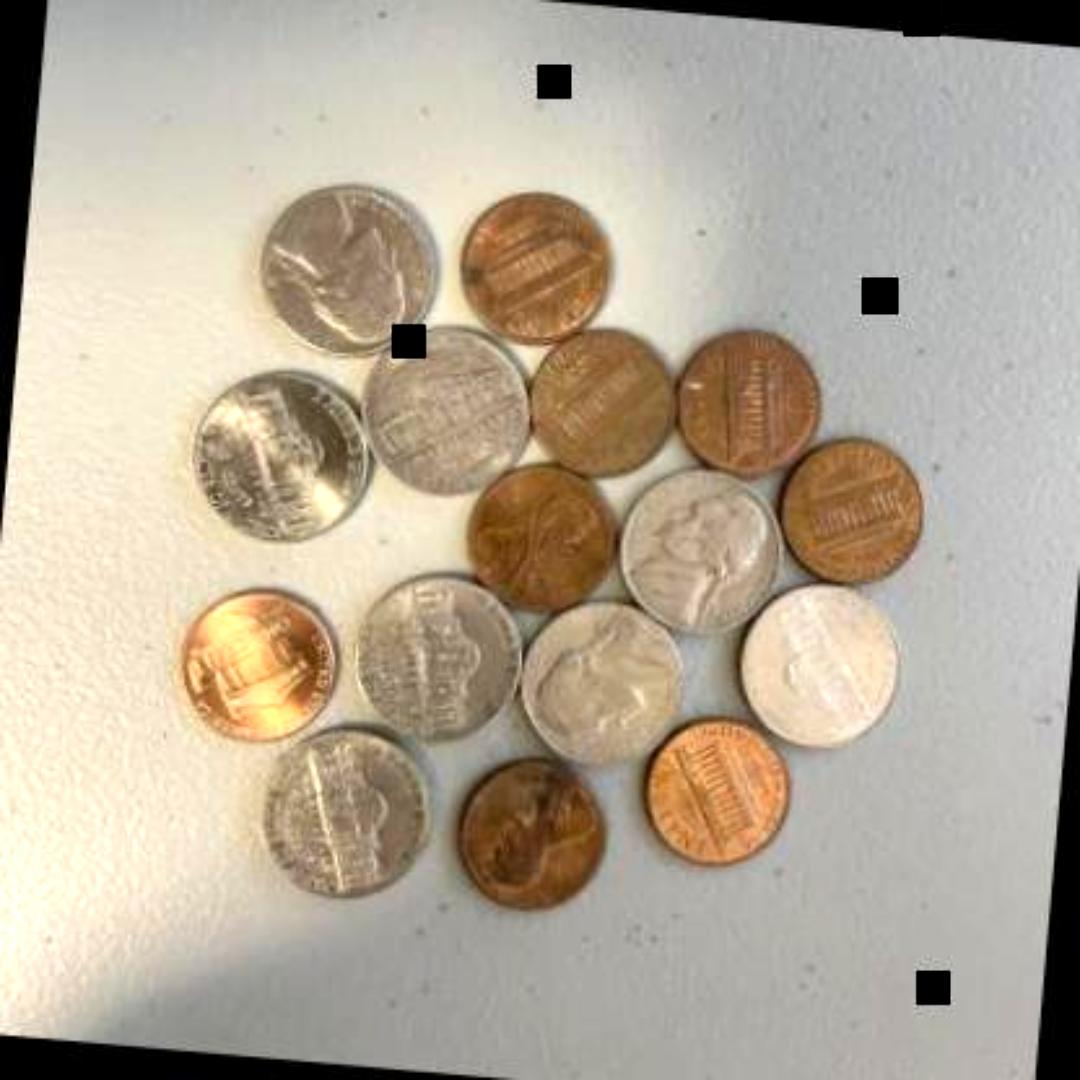Nickel: (184, 351, 373, 558), (249, 166, 448, 356), (510, 585, 694, 771), (252, 718, 436, 904), (357, 315, 538, 501), (608, 456, 788, 642), (346, 564, 526, 744), (730, 571, 908, 747)
Penny: (169, 573, 345, 749), (452, 177, 620, 353), (450, 744, 612, 918), (631, 708, 799, 870), (668, 317, 830, 483), (769, 426, 935, 584), (524, 318, 684, 480), (460, 455, 620, 615)
